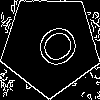O: (25, 20, 83, 78)
